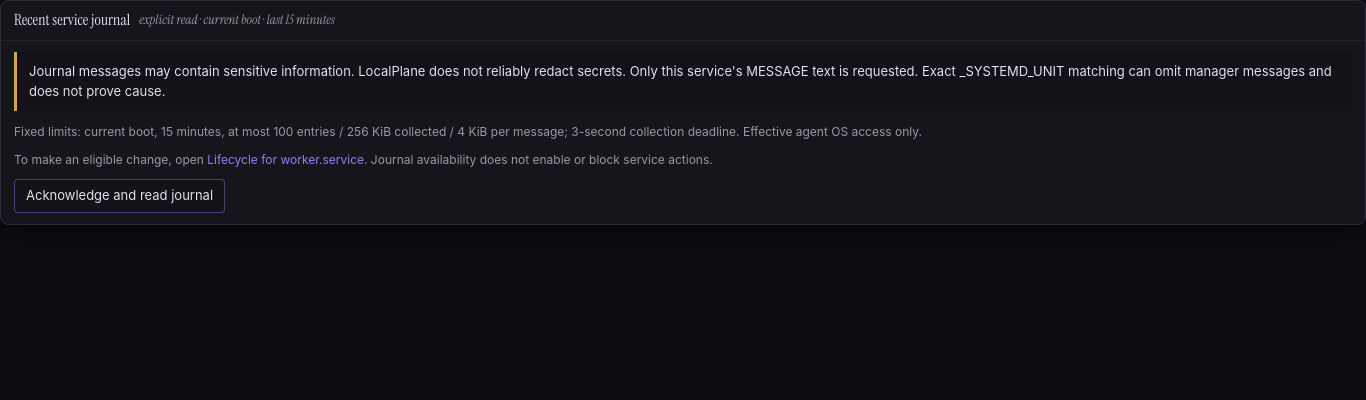
Test: ServiceJournal › does not read automatically; exposes the warning before each explicit read and renders message as text
Later steps or results of the test are not shown.
Expected: the text "may contain sensitive information" is shown, [29,63,1332,98]
Click the button "Acknowledge and read journal".
click(120, 196)  # box [14,179,225,213]
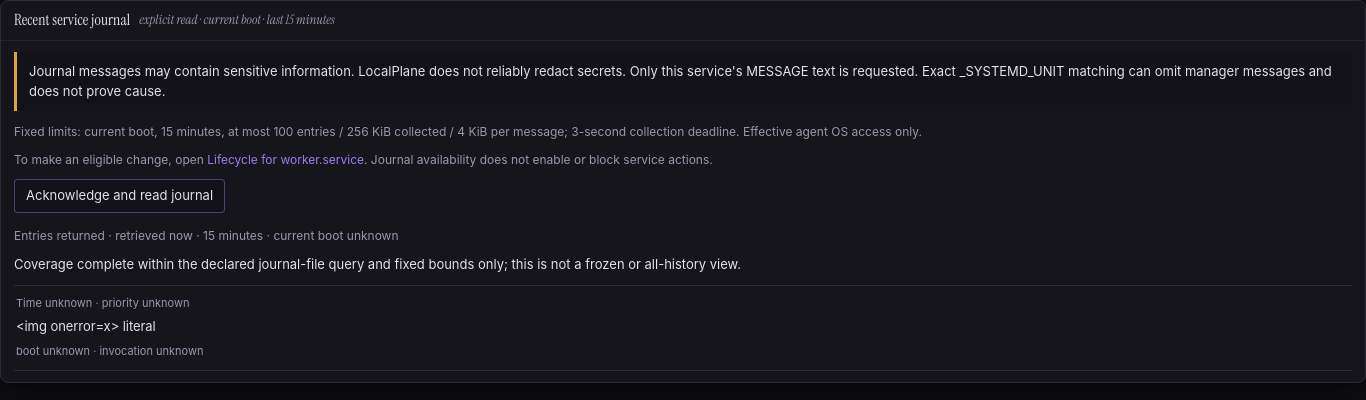
Result: the text "<img onerror=x> literal" is shown at [16,318,156,334]
